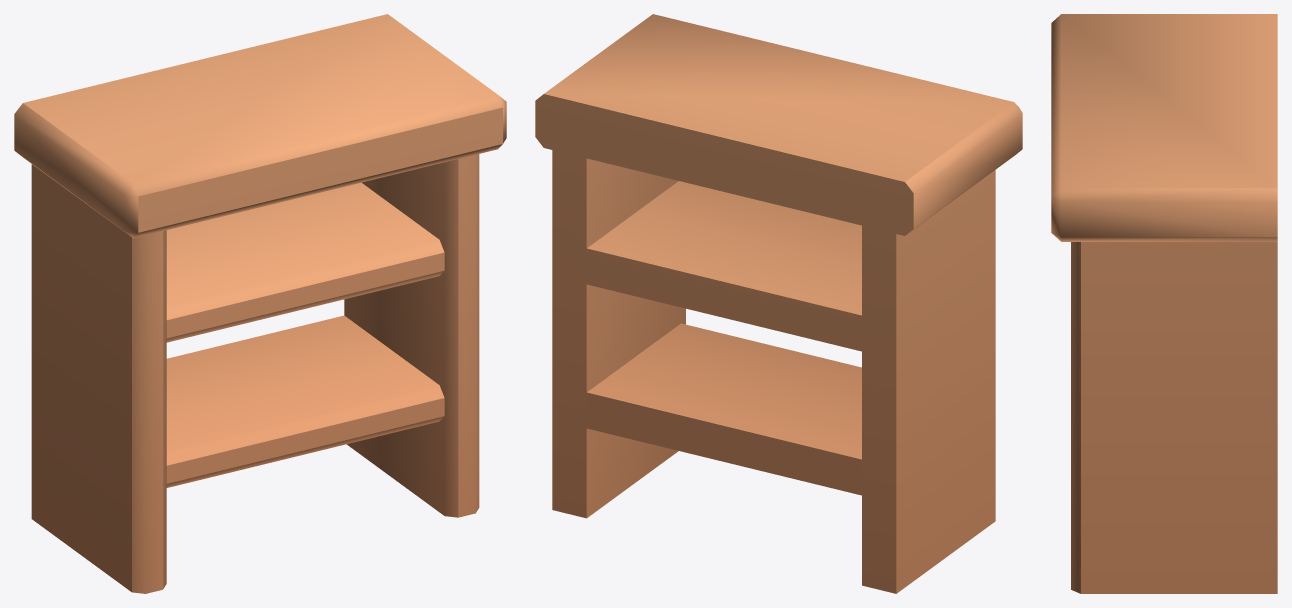
File: countertop-closet-a-large.glb
3 renders of one model, left to right at view 1: azimuth 30°, elevation 25°; view 2: azimuth 150°, elevation 25°; view 3: azimuth 270°, elevation 25°, orthographic. The views are drawn at different scales.
Parts seen in each view (by area): view 1: countertop_closet_A_large; view 2: countertop_closet_A_large; view 3: countertop_closet_A_large.
Part boxes in pixels (bbox=[...]): countertop_closet_A_large: bbox=[14, 14, 506, 593]; countertop_closet_A_large: bbox=[535, 14, 1022, 593]; countertop_closet_A_large: bbox=[1051, 14, 1277, 593].
Bounding box in the file's own units: 2.2 × 2.3 × 1.15.
1 material, 1 textured.
